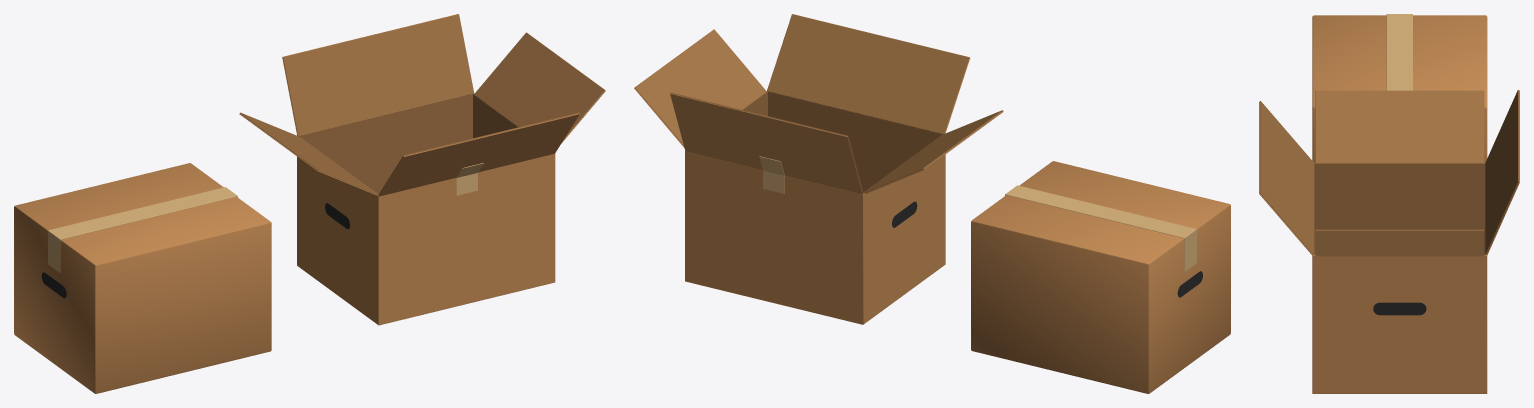
Rendered from CardboardBox.fbx.
The picture shows the model from 3 angles, left to right: view 1: azimuth 30°, elevation 25°; view 2: azimuth 150°, elevation 25°; view 3: azimuth 270°, elevation 25°; orthographic projection. The views are drawn at different scales.
Visible parts, largest first — view 1: CardboardBox_Open_Mesh, CardboardBox_Mesh; view 2: CardboardBox_Open_Mesh, CardboardBox_Mesh; view 3: CardboardBox_Open_Mesh, CardboardBox_Mesh.
Boxes of the visible parts, <box> form: CardboardBox_Open_Mesh: <box>239,14,605,325</box>; CardboardBox_Mesh: <box>14,163,271,393</box>; CardboardBox_Open_Mesh: <box>634,14,1003,324</box>; CardboardBox_Mesh: <box>971,161,1230,393</box>; CardboardBox_Open_Mesh: <box>1259,90,1519,393</box>; CardboardBox_Mesh: <box>1312,14,1487,162</box>.
Bounding box in the file's own units: 1.45 × 0.5351 × 0.5956.
